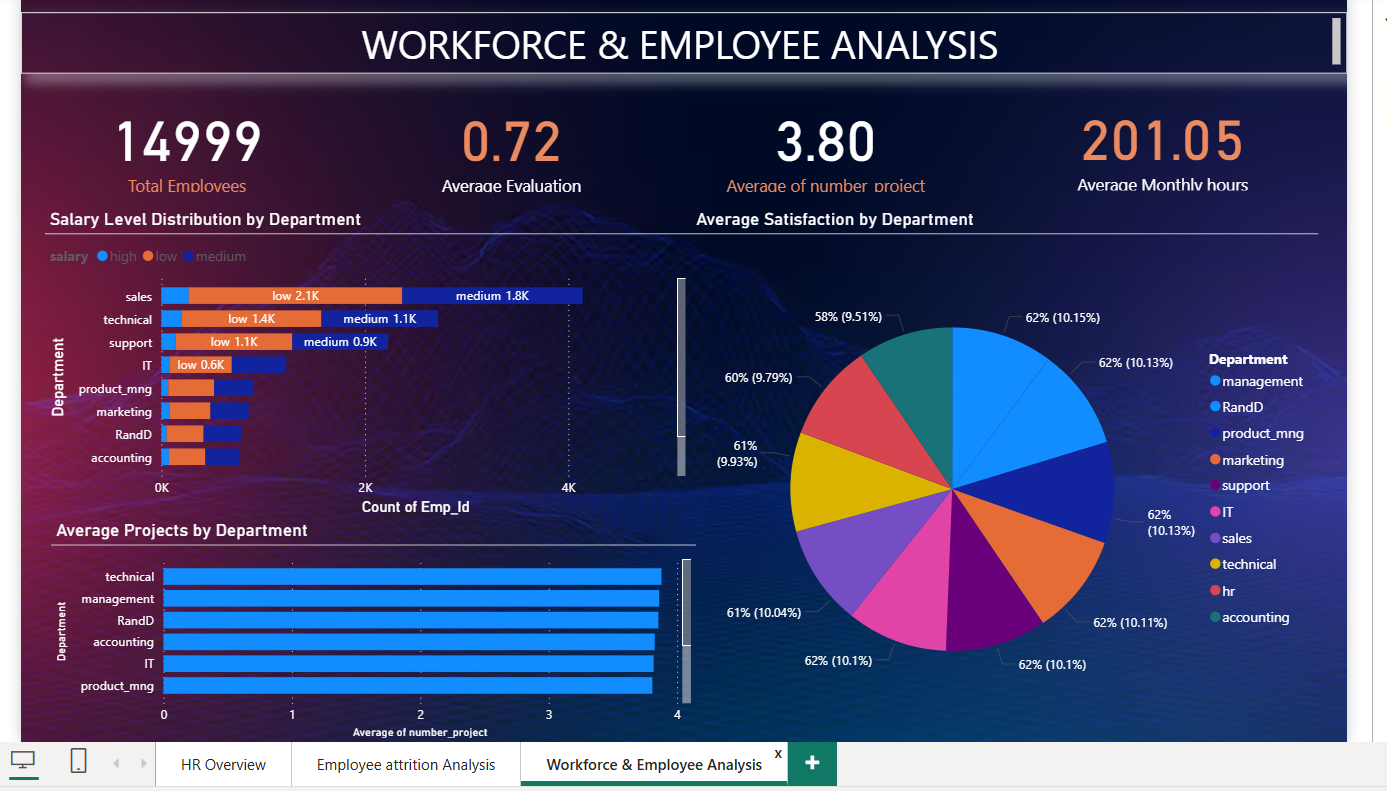

This screenshot's page, from the dashboard's own definition file:
{"tool":"powerbi","page":{"name":"Workforce & Employee Analysis","canvas":[1280,720],"ordinal":2},"visuals":[{"type":"card","fields":{"Values":["HR_Employee_Data.Total Employees"]},"box":[22.9,94.1,282.3,107.4],"z":0},{"type":"card","fields":{"Values":["HR_Employee_Data.Average Evaluation"]},"box":[324.5,94.1,300.4,107.4],"z":1000},{"type":"card","fields":{"Values":["Avg(HR_Employee_Data.number_project)"]},"box":[651.5,94.1,272.7,107.4],"z":2000},{"type":"card","fields":{"Values":["HR_Employee_Data.Average Monthly hours"]},"box":[951.9,94.1,300.4,107.4],"z":3000},{"type":"barChart","title":"Salary Level Distribution by Department","fields":{"Y":["CountNonNull(HR_Employee_Data.Emp_Id)"],"Category":["HR_Employee_Data.Department"],"Series":["HR_Employee_Data.salary"]},"box":[0,213.5,646.7,292],"z":4000},{"type":"clusteredBarChart","title":"Average Projects by Department","fields":{"Y":["Avg(HR_Employee_Data.number_project)"],"Category":["HR_Employee_Data.Department"]},"box":[0,505.5,651.5,214.7],"z":5000},{"type":"pieChart","title":"Average Satisfaction by Department","fields":{"Category":["HR_Employee_Data.Department"],"Y":["Avg(HR_Employee_Data.satisfaction_level)"]},"box":[646.7,213.5,633.4,506.7],"z":6000},{"type":"textbox","box":[0,15.7,1280,59.1],"z":7000}]}

Visuals, with their boxes on the page's 1280x720 design canvas (x1, y1, x2, y2). These are canvas units, not pixel positions in the 1387x791 screenshot, which may show the page scaled, cropped or inside an application window:
card - HR_Employee_Data.Total Employees: <region>23, 94, 305, 202</region>
card - HR_Employee_Data.Average Evaluation: <region>324, 94, 625, 202</region>
card - Avg(HR_Employee_Data.number_project): <region>652, 94, 924, 202</region>
card - HR_Employee_Data.Average Monthly hours: <region>952, 94, 1252, 202</region>
"Salary Level Distribution by Department" barChart: <region>0, 214, 647, 506</region>
"Average Projects by Department" clusteredBarChart: <region>0, 506, 652, 720</region>
"Average Satisfaction by Department" pieChart: <region>647, 214, 1280, 720</region>
textbox: <region>0, 16, 1280, 75</region>
